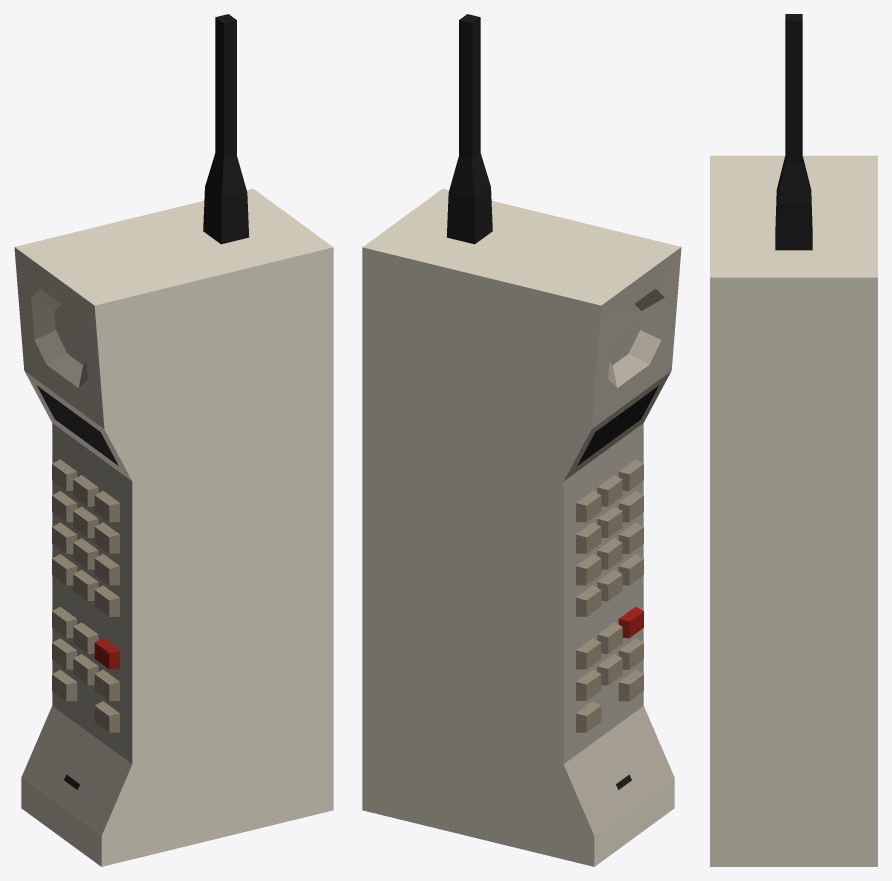
File: 25_cell_phone.glb
3 views of the same model, side by side, from view 1: azimuth 30°, elevation 25°; view 2: azimuth 150°, elevation 25°; view 3: azimuth 270°, elevation 25° (orthographic). The views are drawn at different scales.
Visible parts, largest first — view 1: cellphone; view 2: cellphone; view 3: cellphone.
Boxes of the visible parts, x1,y1,x2,y2 form: cellphone: (14, 14, 333, 866); cellphone: (362, 14, 681, 866); cellphone: (710, 14, 877, 866).
Size of the model in its own units: 0.1171 by 0.3646 by 0.068.
2 materials, 2 textured.
